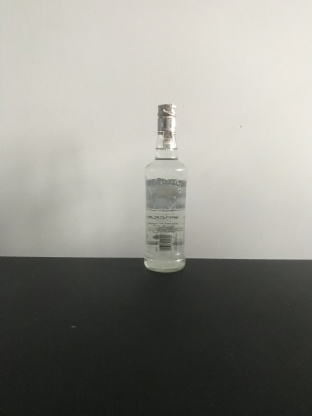nakretka: (155, 100, 178, 135)
